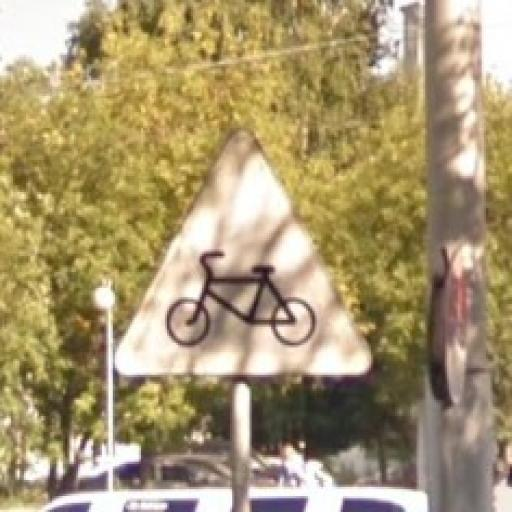traffic_sign: (114, 129, 376, 380)
